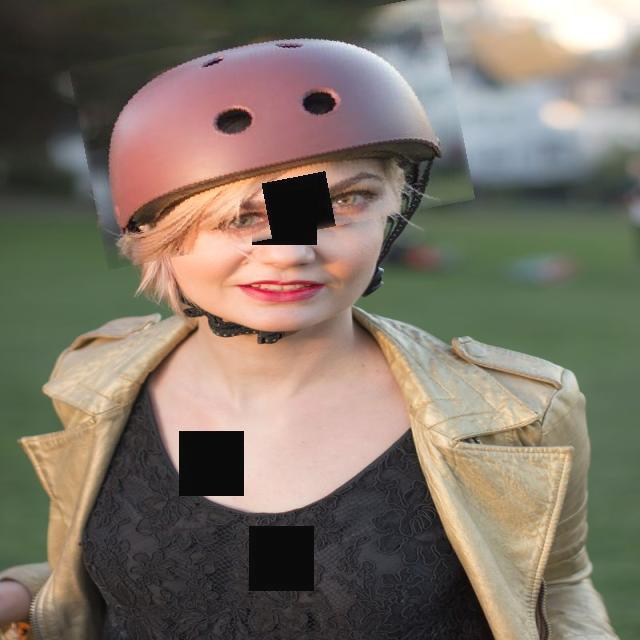helmet: (77, 11, 467, 253)
